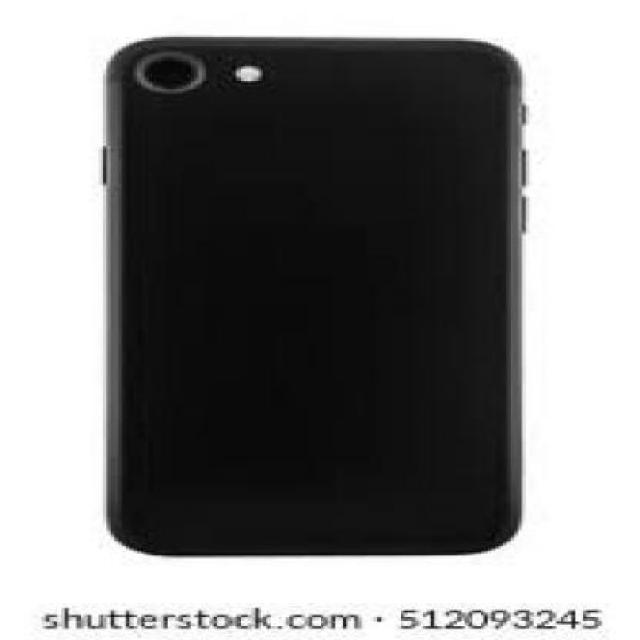fake: (106, 36, 526, 553)
